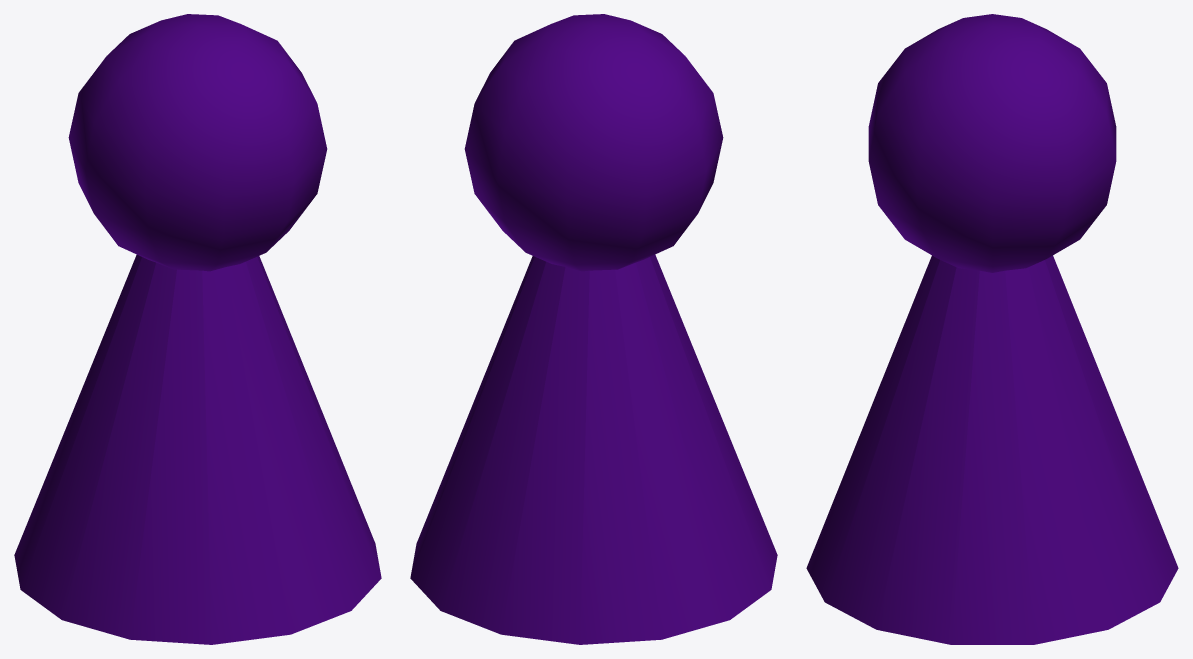
File: robber.gltf
3 views of the same model, side by side, from view 1: azimuth 30°, elevation 25°; view 2: azimuth 150°, elevation 25°; view 3: azimuth 270°, elevation 25° (orthographic).
Size of the model in its own units: 0.0292 by 0.0482 by 0.03.
